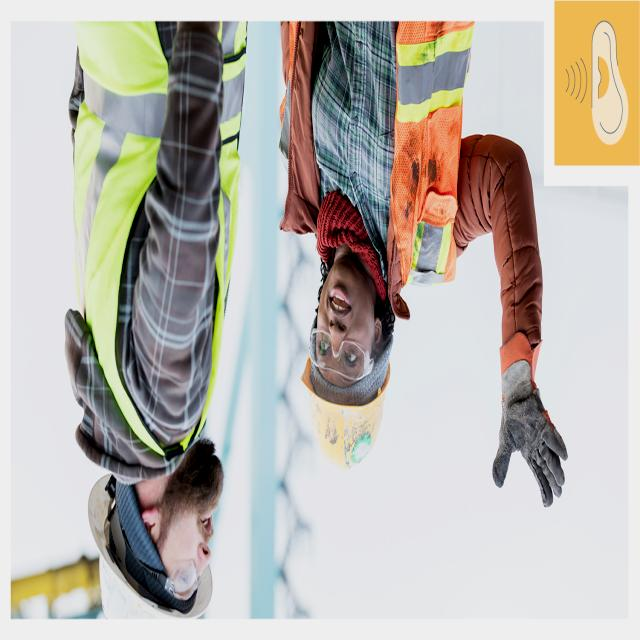Gloves: (486, 324, 572, 528)
Hard Hat: (88, 472, 216, 632), (297, 356, 396, 476)
Reflective Vest: (60, 0, 261, 458), (280, 22, 478, 298)
Safety Glasses: (122, 540, 206, 602), (307, 324, 375, 380)
